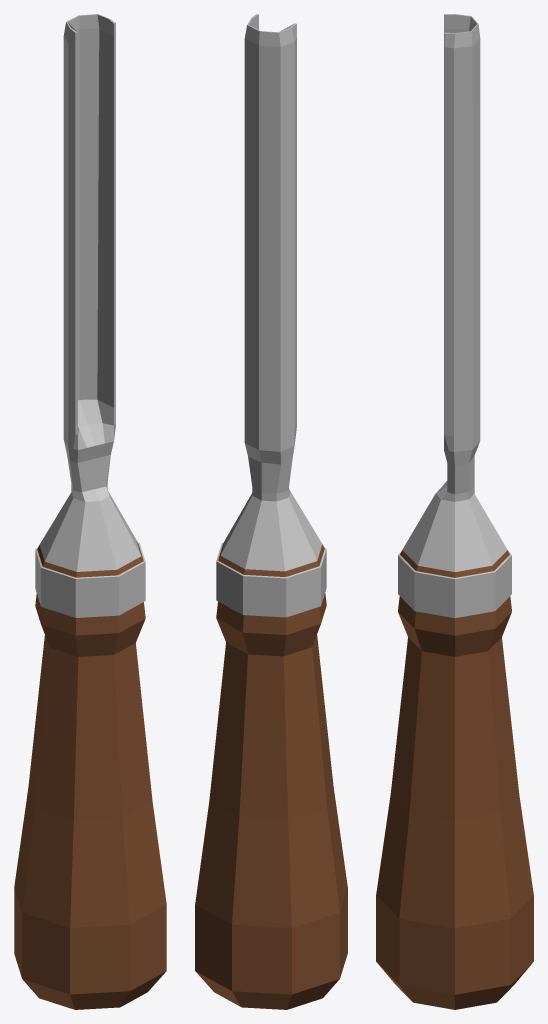
Rendered from chisel04.gltf.
3 views of the same model, side by side, from view 1: azimuth 30°, elevation 25°; view 2: azimuth 150°, elevation 25°; view 3: azimuth 270°, elevation 25° (orthographic).
Parts seen in each view (by area): view 1: Cylinder; view 2: Cylinder; view 3: Cylinder.
Part boxes in pixels (x1,y1,x2,y2): Cylinder: (14, 14, 166, 1009); Cylinder: (195, 14, 347, 1009); Cylinder: (376, 14, 533, 1009).
Size of the model in its own units: 0.0276 by 0.1858 by 0.0276.
Materials: 1 (1 with a texture image).
